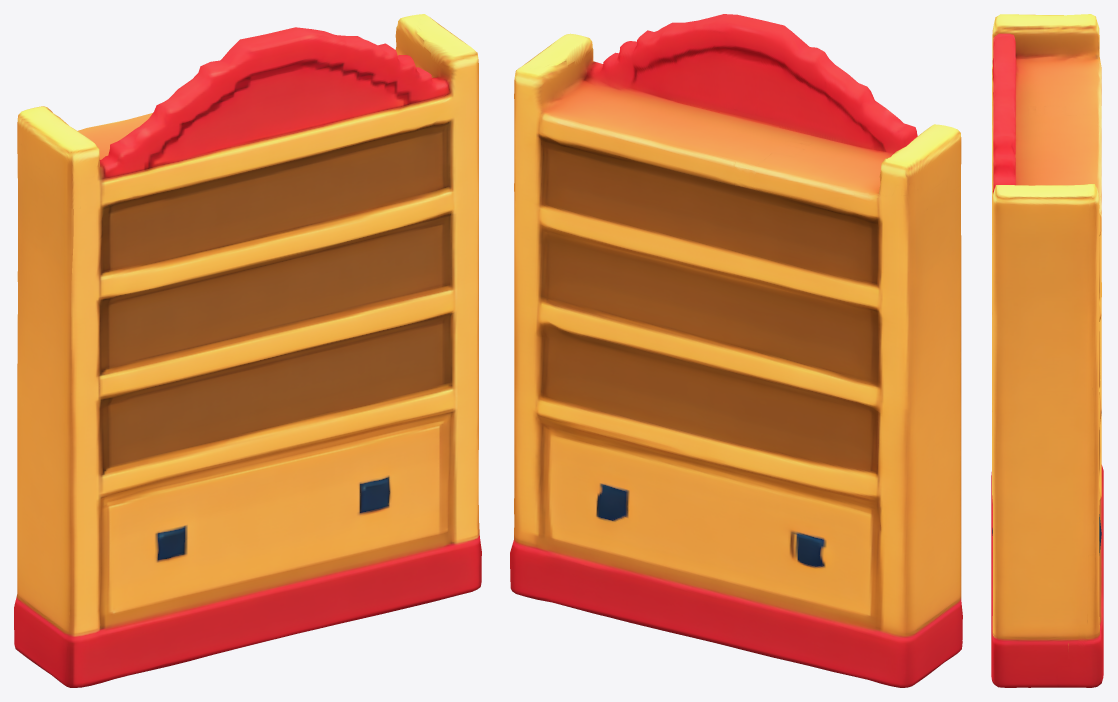
The model's file is 02-wall-shelf-v2.fbx.
3 renders of one model, left to right at view 1: azimuth 30°, elevation 25°; view 2: azimuth 150°, elevation 25°; view 3: azimuth 270°, elevation 25°, orthographic. The views are drawn at different scales.
Parts seen in each view (by area): view 1: model; view 2: model; view 3: model.
Boxes of the visible parts, box(x1,y1,x2,y2) form: model: box(14, 14, 481, 687); model: box(510, 14, 962, 687); model: box(991, 14, 1103, 687).
Size of the model in its own units: 138 by 190 by 35.25.
